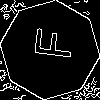F: (25, 25, 74, 61)
